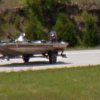Boat: (1, 31, 75, 69)
